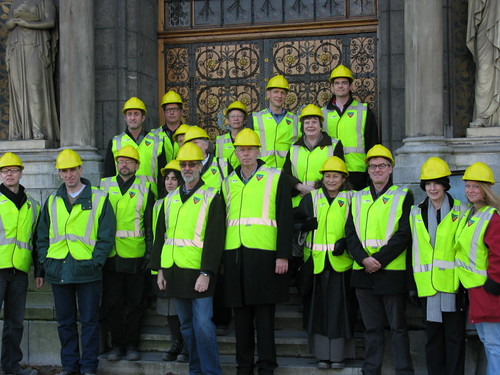person hardhat: (223, 127, 293, 369), (35, 148, 104, 375), (93, 145, 160, 363), (402, 152, 464, 375), (351, 145, 409, 371), (294, 158, 354, 371), (169, 147, 224, 370), (456, 160, 500, 375), (322, 58, 382, 202), (1, 152, 39, 373), (149, 160, 191, 359), (289, 104, 346, 198), (256, 71, 297, 169), (183, 121, 231, 194), (109, 89, 151, 171), (155, 87, 189, 174), (214, 97, 254, 168), (169, 124, 190, 148)
